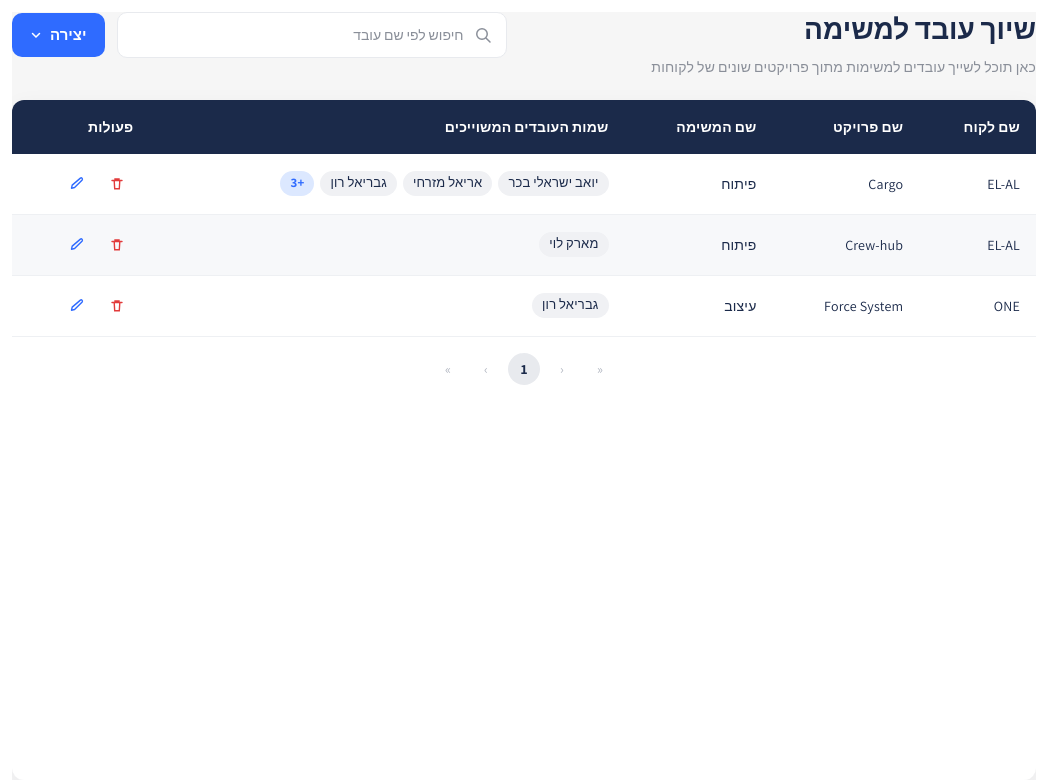
Test: AdminAssignments › filters rows by employee name
The width and height of the screenshot is (1048, 780).
Expected: the text "Cargo" is shown, [772,154,919,214]
Step 1. Type "שירי" into the search field with placeholder "חיפוש לפי שם עובד" → x=298, y=35, box [132,21,466,49]
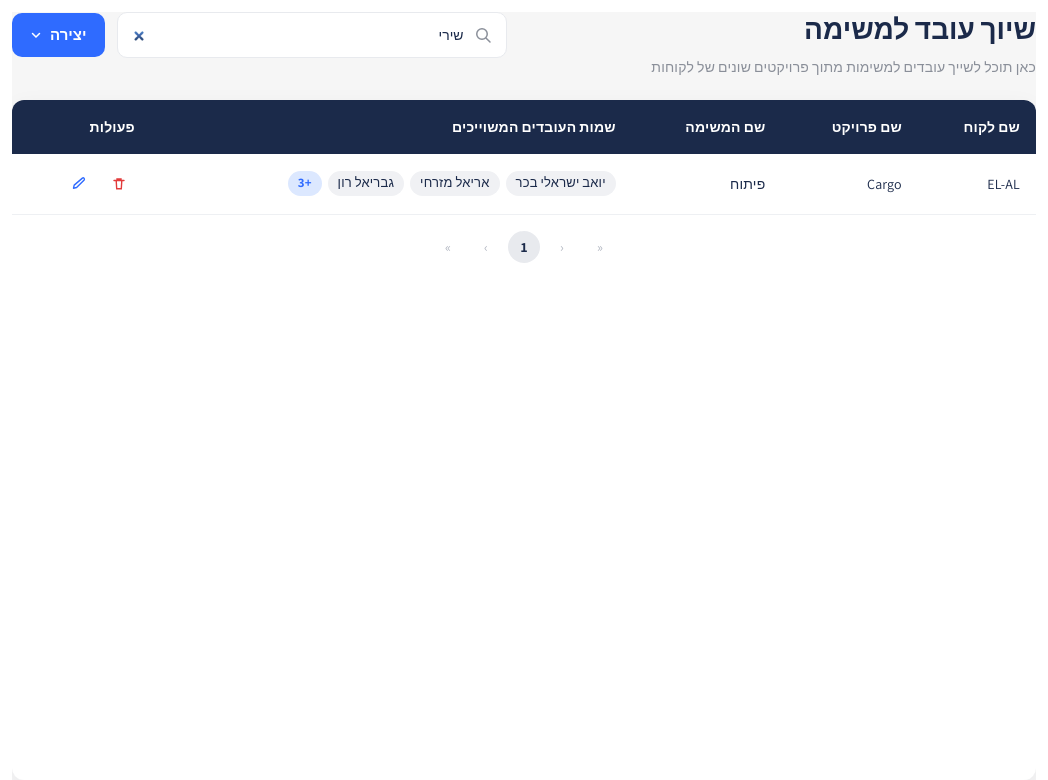
Expected: the text "Cargo" is shown, [781,154,918,214]
Expected: the text "Crew-hub" is gone
